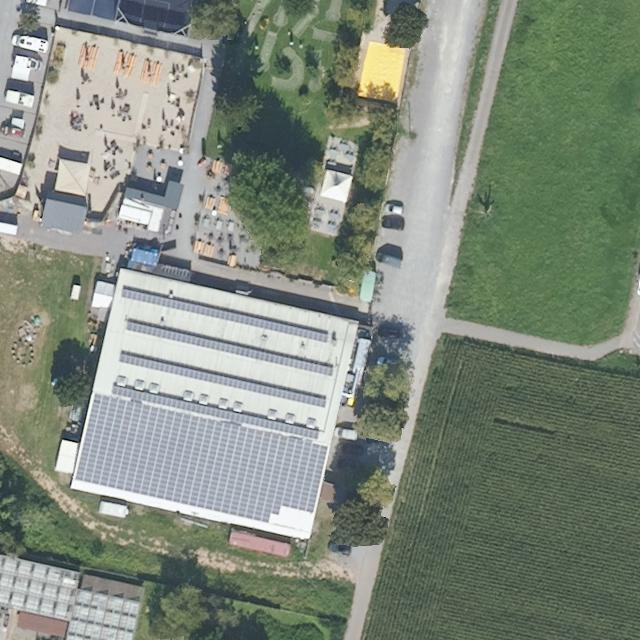PV: (72, 391, 331, 526), (120, 282, 332, 346), (123, 316, 338, 379), (116, 348, 329, 411), (109, 381, 322, 441)
